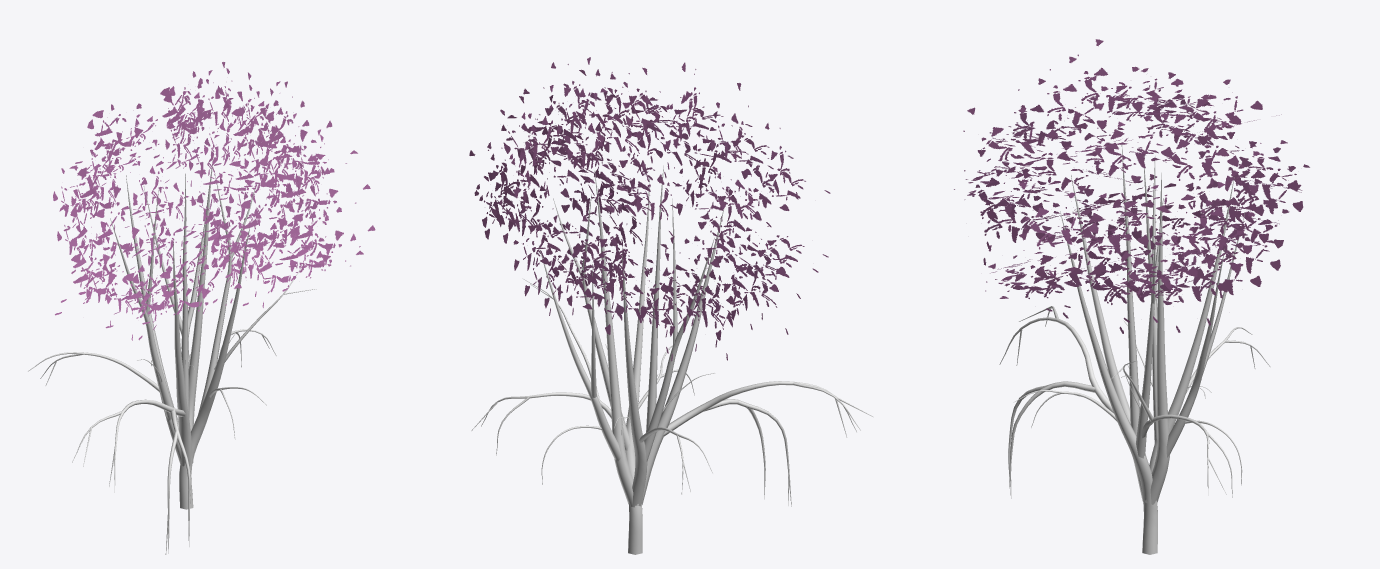
The model's file is Tree_D.fbx.
3 views of the same model, side by side, from view 1: azimuth 30°, elevation 25°; view 2: azimuth 150°, elevation 25°; view 3: azimuth 270°, elevation 25° (orthographic). The views are drawn at different scales.
Parts seen in each view (by area): view 1: Bush_B_LOD0.003, tree; view 2: Bush_B_LOD0.003, tree; view 3: Bush_B_LOD0.003, tree.
Part boxes in pixels (x1,y1,x2,y2): Bush_B_LOD0.003: [53, 62, 375, 340]; tree: [28, 159, 316, 554]; Bush_B_LOD0.003: [469, 57, 830, 361]; tree: [471, 165, 873, 554]; Bush_B_LOD0.003: [954, 39, 1309, 333]; tree: [999, 145, 1270, 554].
Size of the model in its own units: 2.71 by 2.91 by 3.75.
